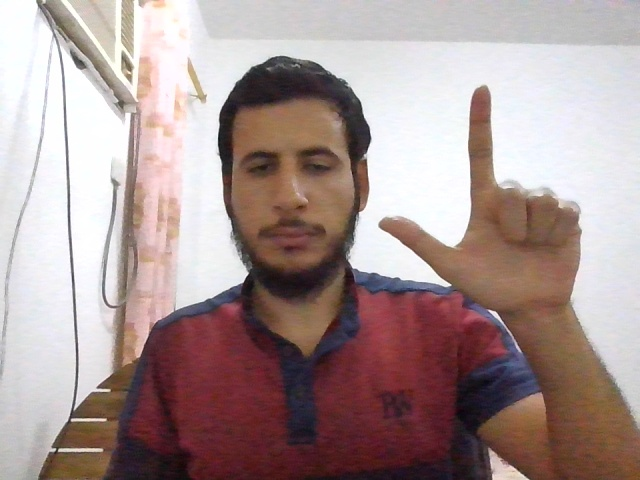Two: (377, 82, 583, 311)
